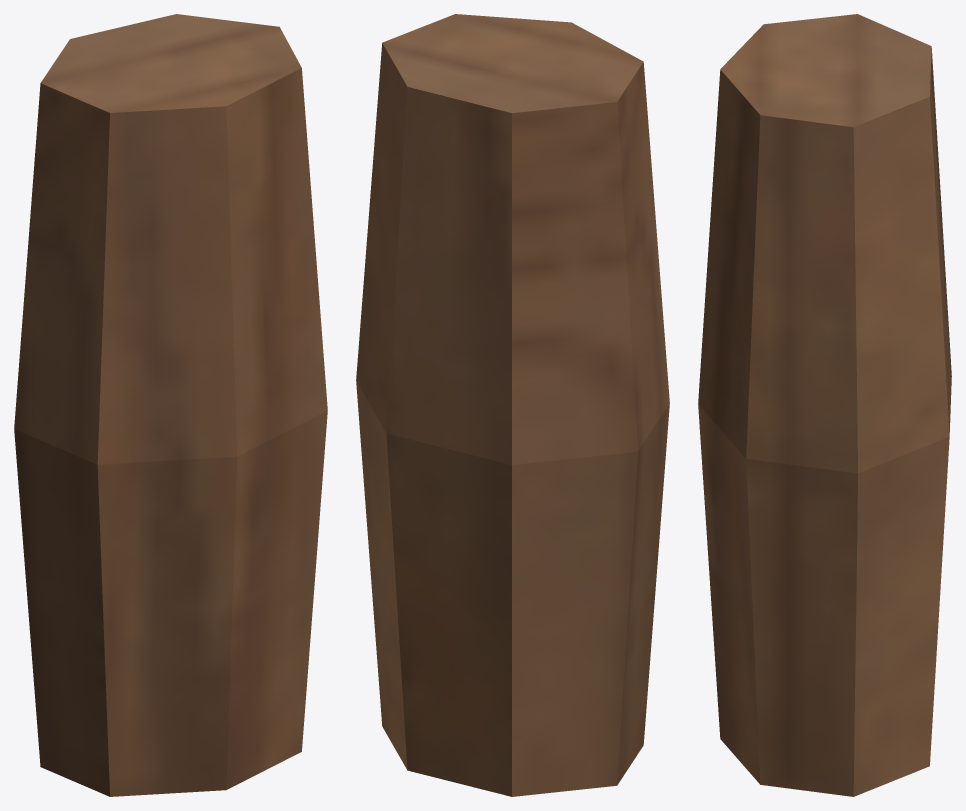
The model's file is peg.fbx.
3 views of the same model, side by side, from view 1: azimuth 30°, elevation 25°; view 2: azimuth 150°, elevation 25°; view 3: azimuth 270°, elevation 25° (orthographic). The views are drawn at different scales.
Parts seen in each view (by area): view 1: polySurface32; view 2: polySurface32; view 3: polySurface32.
Part boxes in pixels (x1,y1,x2,y2): polySurface32: (14, 14, 327, 796); polySurface32: (356, 14, 669, 796); polySurface32: (698, 14, 951, 796).
Bounding box in the file's own units: 9.66 × 22.19 × 7.62.
